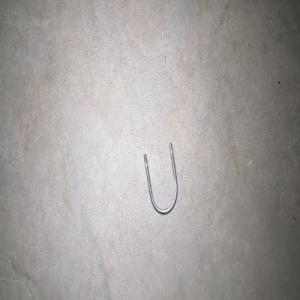ClampPart: (142, 141, 178, 215)
